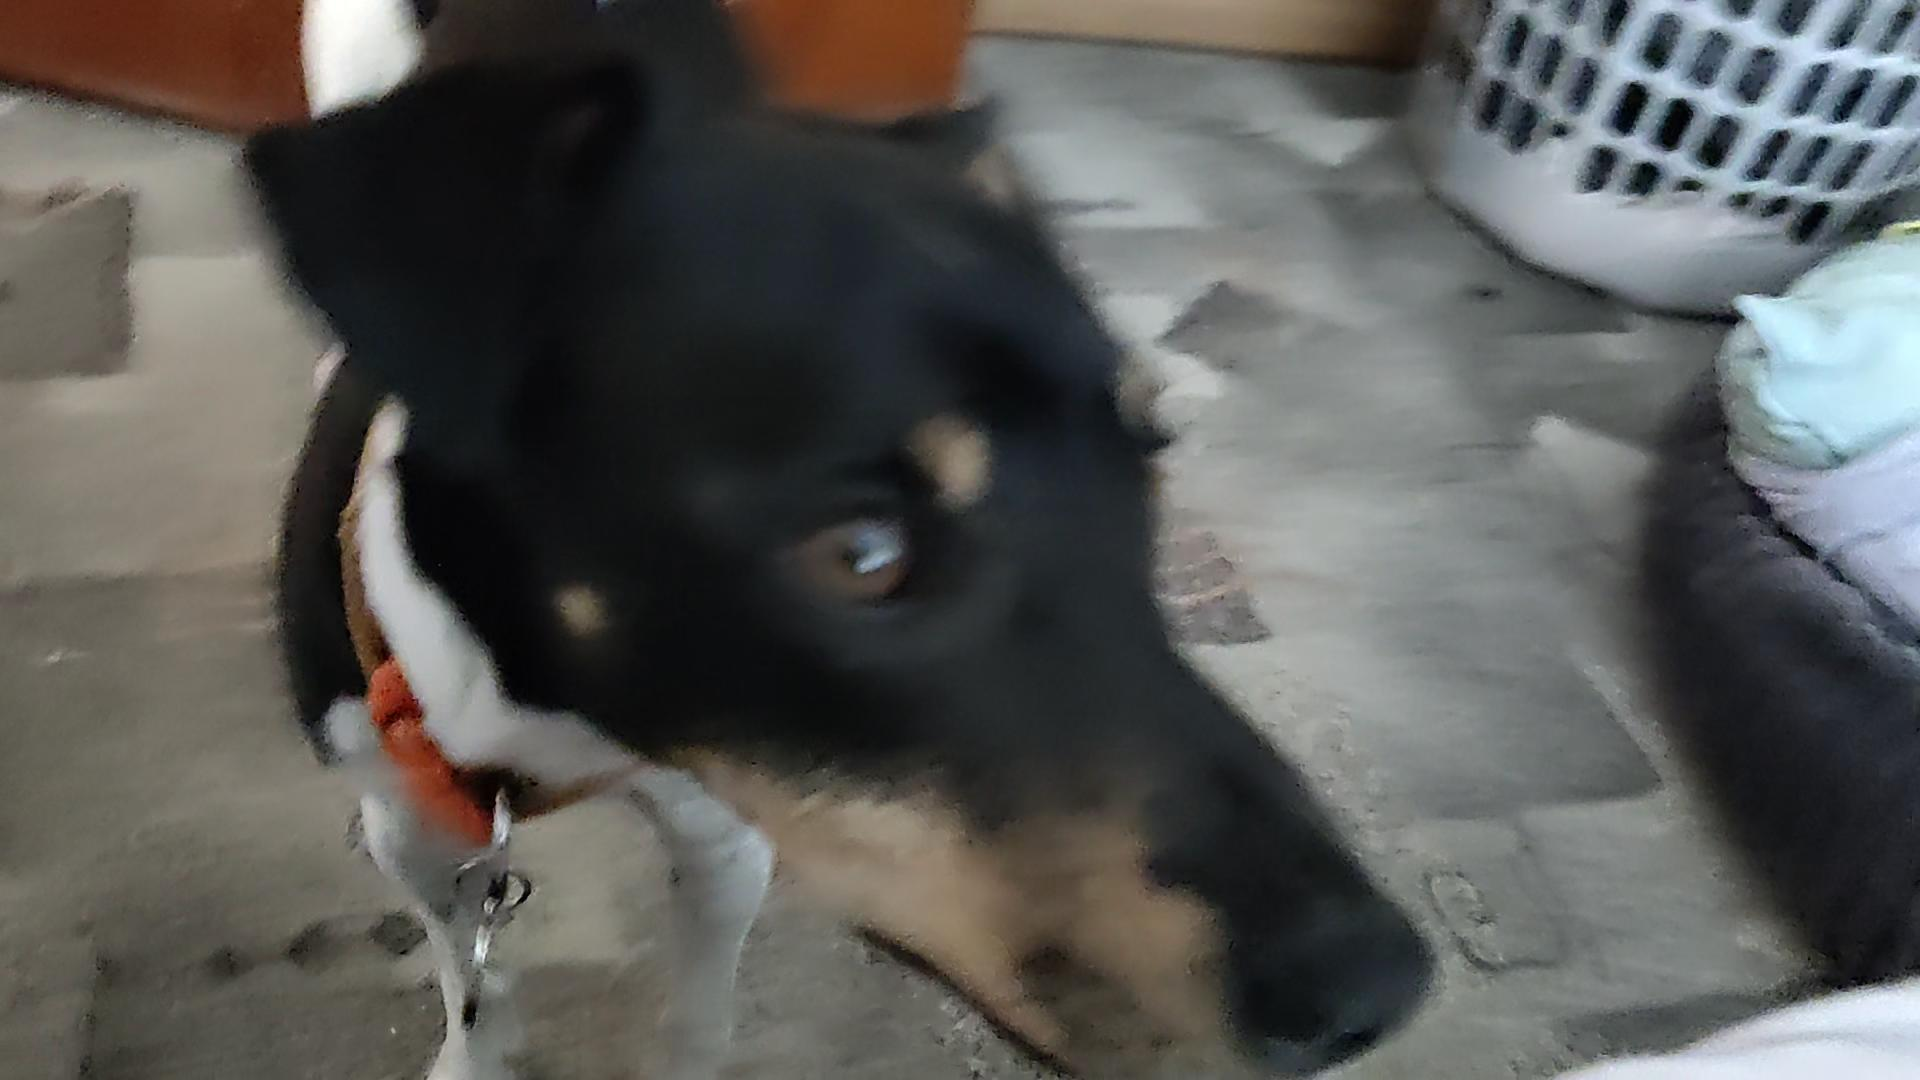Dog: (187, 0, 1460, 1080)
